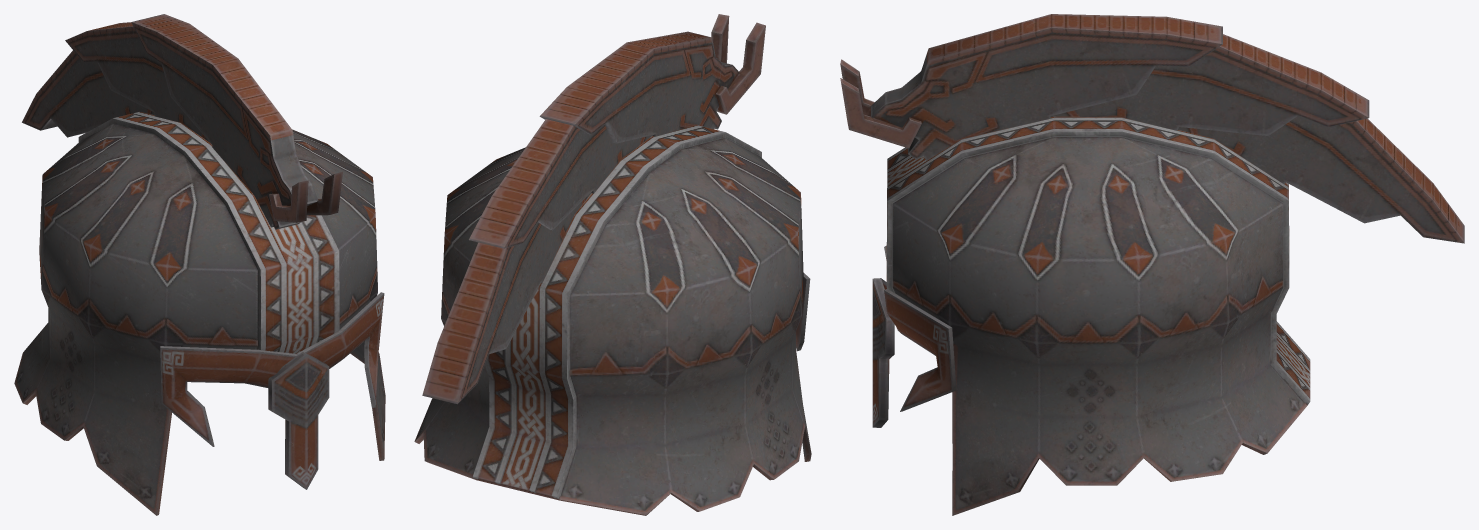
File: sk_dwarf_dain_helmet_med_a.fbx
3 renders of one model, left to right at view 1: azimuth 30°, elevation 25°; view 2: azimuth 150°, elevation 25°; view 3: azimuth 270°, elevation 25°, orthographic. The views are drawn at different scales.
Parts seen in each view (by area): view 1: sk_dwarf_dain_helmet_med_a; view 2: sk_dwarf_dain_helmet_med_a; view 3: sk_dwarf_dain_helmet_med_a.
Boxes of the visible parts, box(x1,y1,x2,y2) form: sk_dwarf_dain_helmet_med_a: box(14, 14, 385, 515); sk_dwarf_dain_helmet_med_a: box(414, 14, 811, 515); sk_dwarf_dain_helmet_med_a: box(840, 14, 1464, 515).
Bounding box in the file's own units: 0.2756 × 0.4364 × 0.3351.
1 material, 1 textured.
